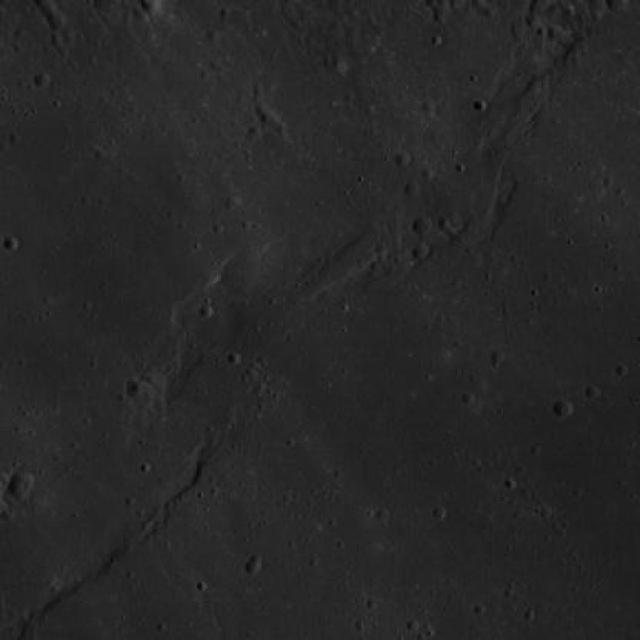crater: (124, 375, 150, 400), (47, 12, 70, 34), (410, 216, 432, 238), (8, 478, 30, 500), (146, 2, 166, 22), (554, 400, 572, 420), (402, 182, 420, 200), (605, 0, 626, 15), (411, 243, 427, 260), (36, 76, 52, 93), (393, 152, 409, 168), (246, 564, 262, 580), (5, 240, 21, 256), (201, 306, 216, 322), (37, 0, 53, 15), (0, 473, 12, 490), (447, 0, 465, 11)
